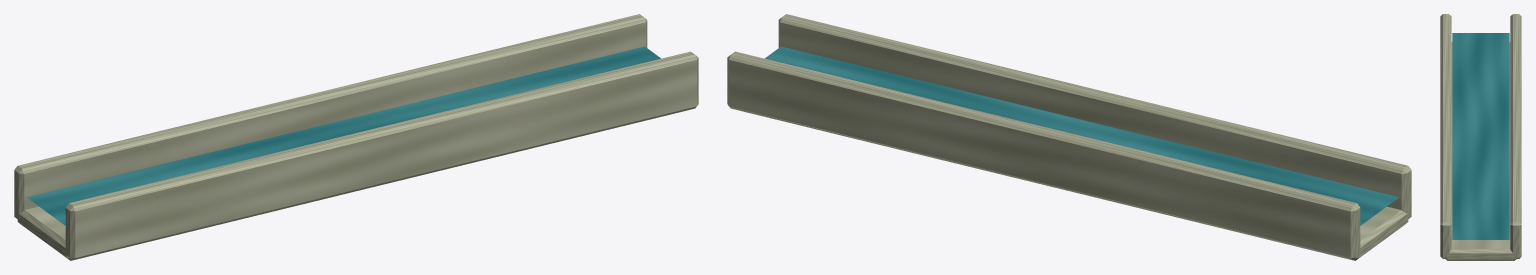
The model's file is irrigation_trough.glb.
3 renders of one model, left to right at view 1: azimuth 30°, elevation 25°; view 2: azimuth 150°, elevation 25°; view 3: azimuth 270°, elevation 25°, orthographic. The views are drawn at different scales.
Visible parts, largest first — view 1: irrigation_trough.001; view 2: irrigation_trough.001; view 3: irrigation_trough.001.
Boxes of the visible parts, box(x1,y1,x2,y2) form: irrigation_trough.001: box(14, 14, 698, 260); irrigation_trough.001: box(727, 14, 1411, 260); irrigation_trough.001: box(1440, 14, 1521, 260).
Size of the model in its own units: 6.1 by 0.53 by 1.
Materials: 1 (1 with a texture image).
